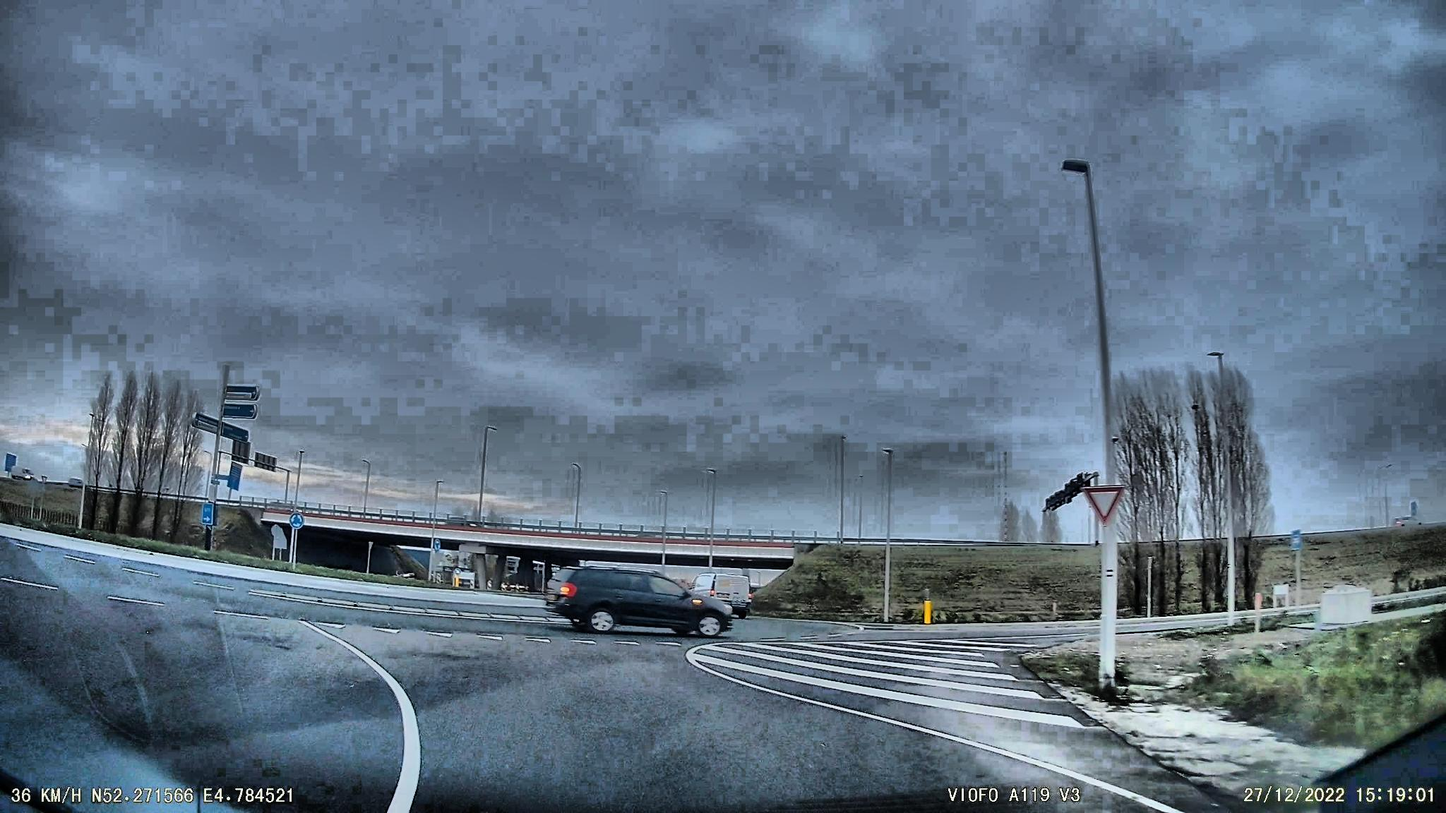Roads: (0, 534, 1232, 813)
